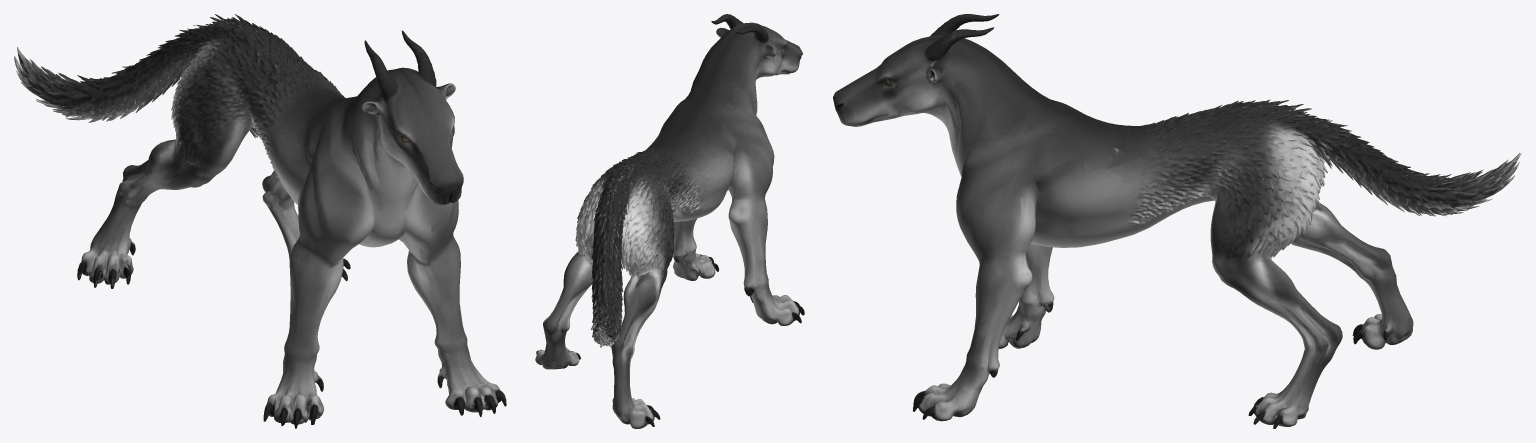
File: northern-talren-source.glb
3 renders of one model, left to right at view 1: azimuth 30°, elevation 25°; view 2: azimuth 150°, elevation 25°; view 3: azimuth 270°, elevation 25°, orthographic. The views are drawn at different scales.
Parts seen in each view (by area): view 1: Mesh_0; view 2: Mesh_0; view 3: Mesh_0.
Boxes of the visible parts, bbox=[...] form: Mesh_0: bbox=[14, 14, 506, 428]; Mesh_0: bbox=[535, 14, 804, 428]; Mesh_0: bbox=[833, 14, 1521, 428].
Bounding box in the file's own units: 0.6921 × 1.1 × 1.9.
Materials: 1 (1 with a texture image).
